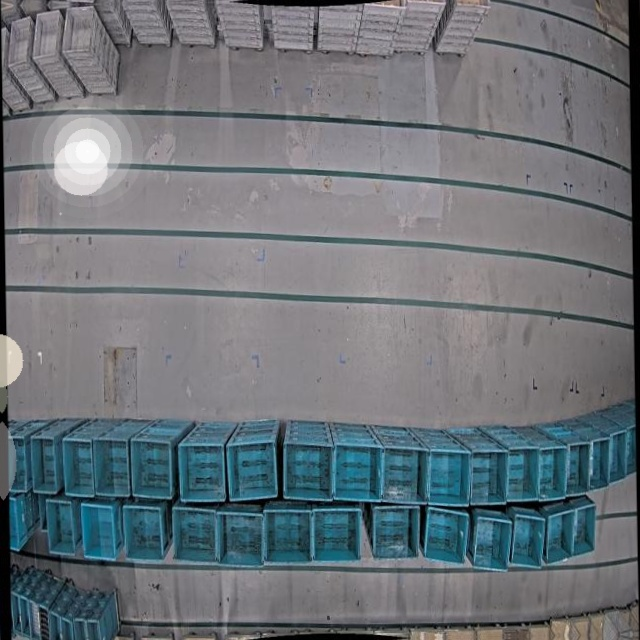Box: (281, 438, 334, 501), (227, 436, 278, 501), (178, 438, 227, 503), (263, 505, 313, 567), (312, 505, 362, 566), (171, 503, 219, 566), (332, 441, 380, 503), (371, 503, 421, 562), (130, 436, 174, 502), (219, 508, 266, 569), (122, 502, 167, 564), (426, 447, 472, 507), (423, 506, 468, 567), (380, 443, 422, 505), (473, 513, 513, 572), (81, 501, 117, 561), (510, 511, 546, 569), (63, 434, 96, 495), (469, 448, 503, 506), (45, 497, 77, 557), (94, 435, 125, 496), (544, 509, 575, 564), (32, 433, 60, 493), (536, 443, 565, 500), (505, 445, 533, 502), (572, 502, 597, 559), (565, 440, 590, 496), (588, 435, 611, 489), (8, 434, 29, 492), (10, 493, 31, 550), (609, 429, 627, 485), (625, 423, 636, 477), (11, 587, 22, 640), (29, 598, 40, 640), (73, 616, 88, 640), (50, 610, 62, 640), (88, 619, 104, 640), (40, 603, 49, 640), (456, 0, 493, 9), (22, 594, 29, 640), (61, 616, 73, 640)
